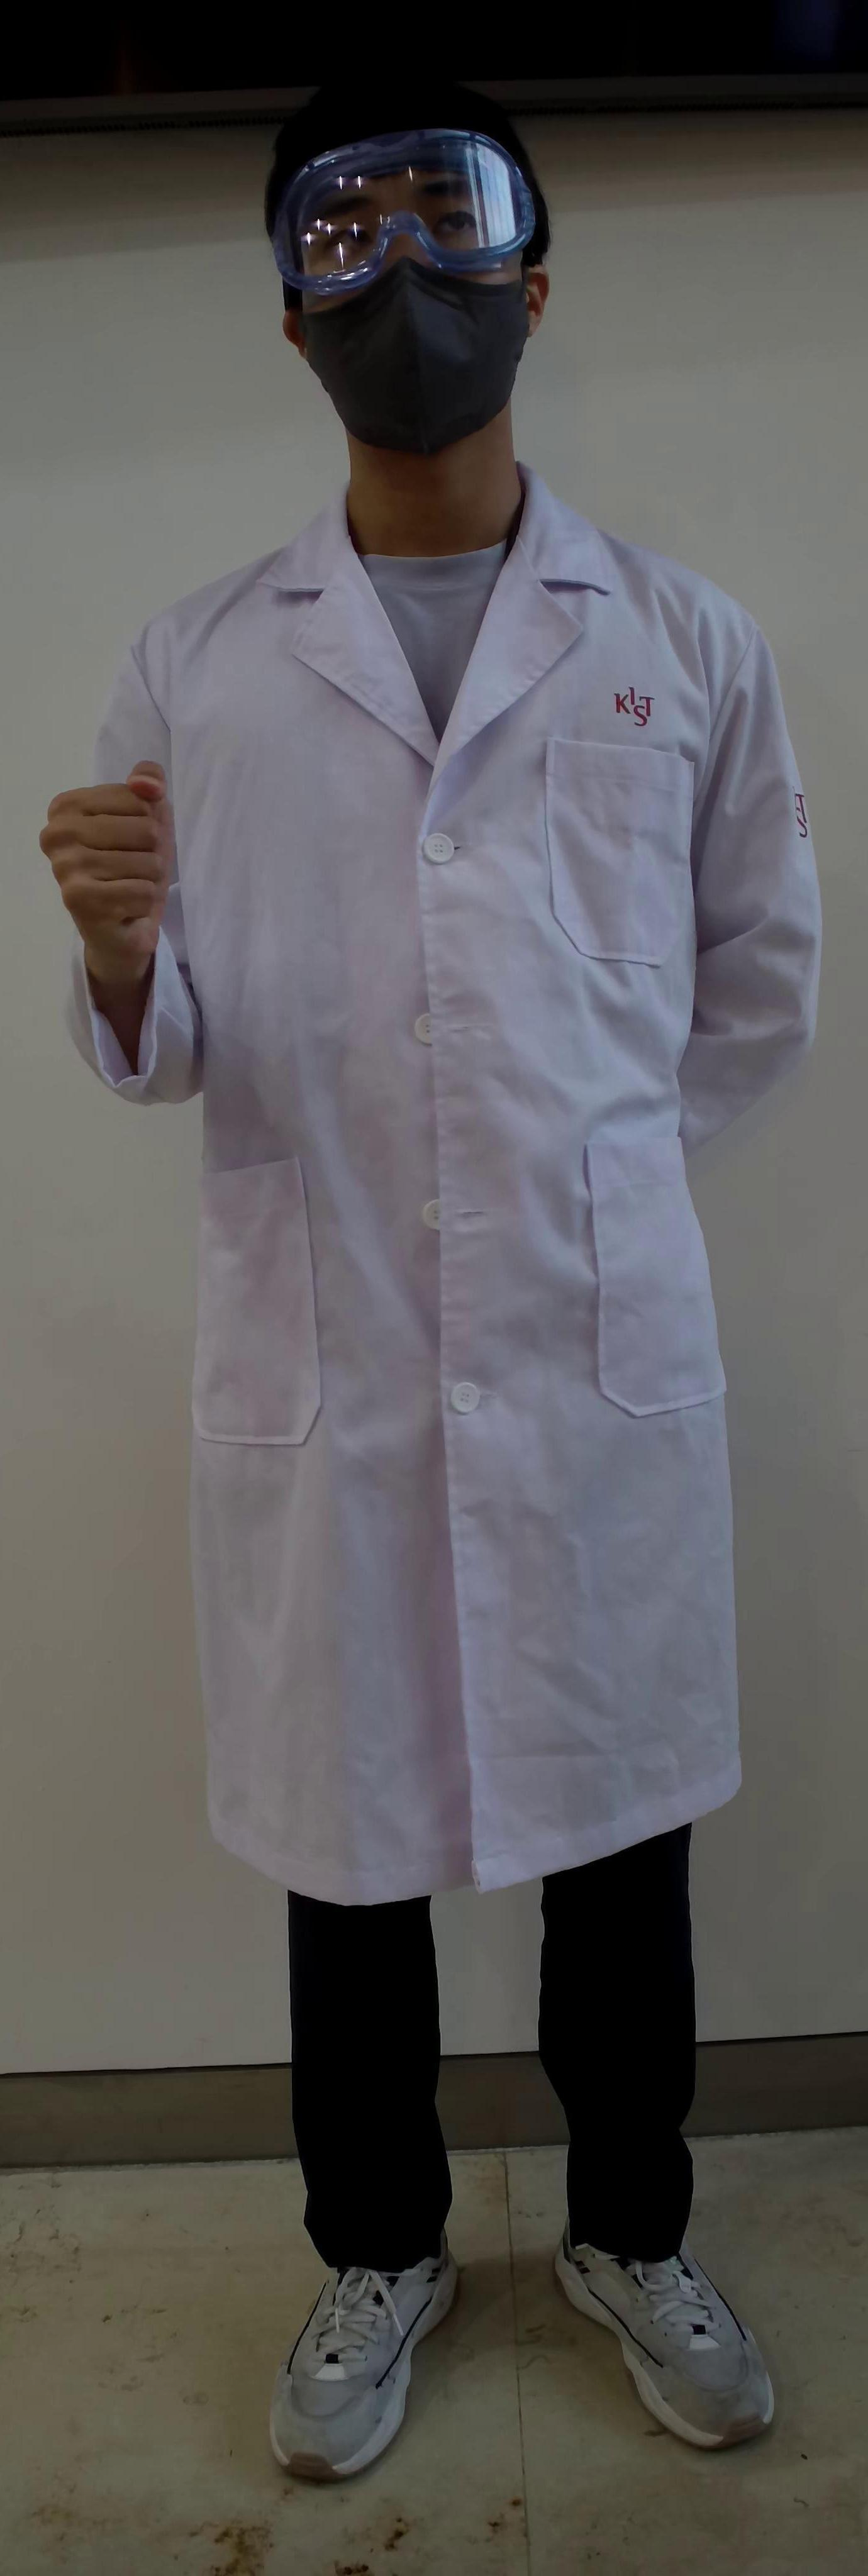lab_coat: (161, 522, 837, 1840)
